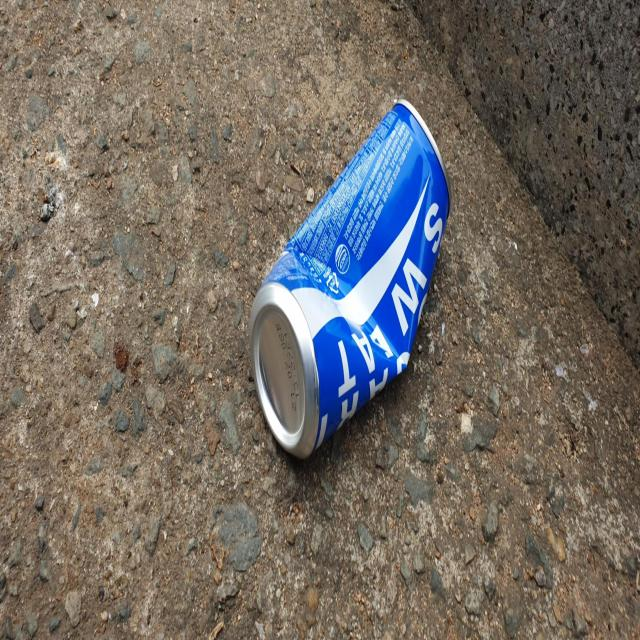can: (250, 99, 451, 458)
